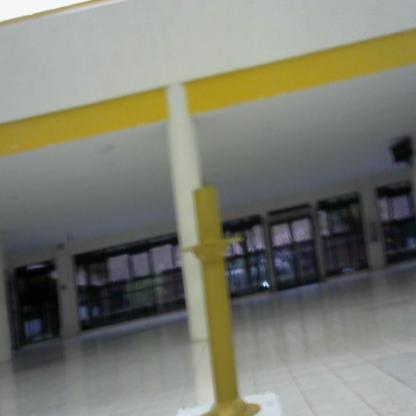pole: (174, 175, 271, 416)
